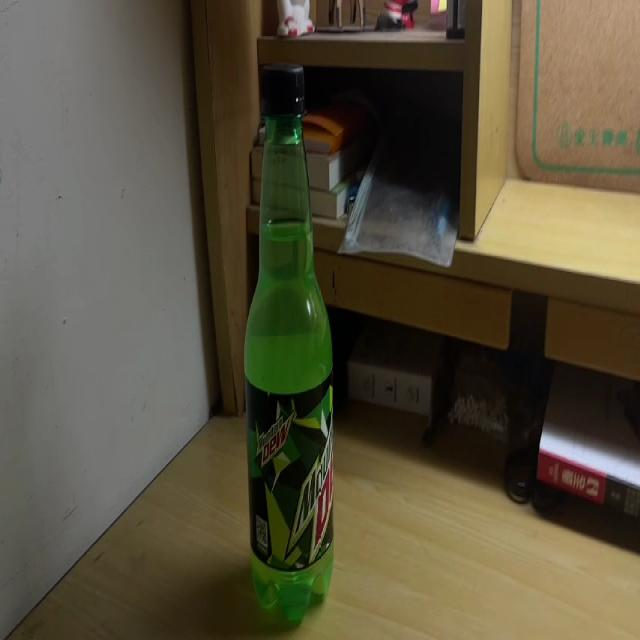Mountain-Dew: (244, 65, 332, 626)
